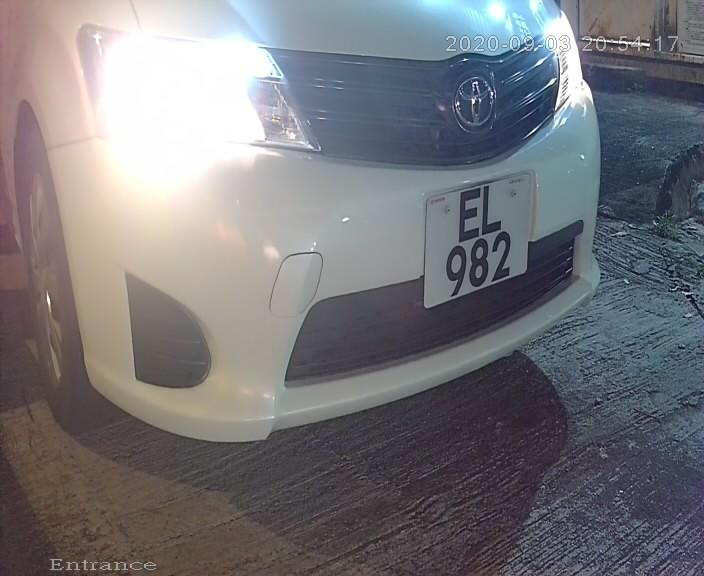License Plate: (410, 164, 545, 318)
